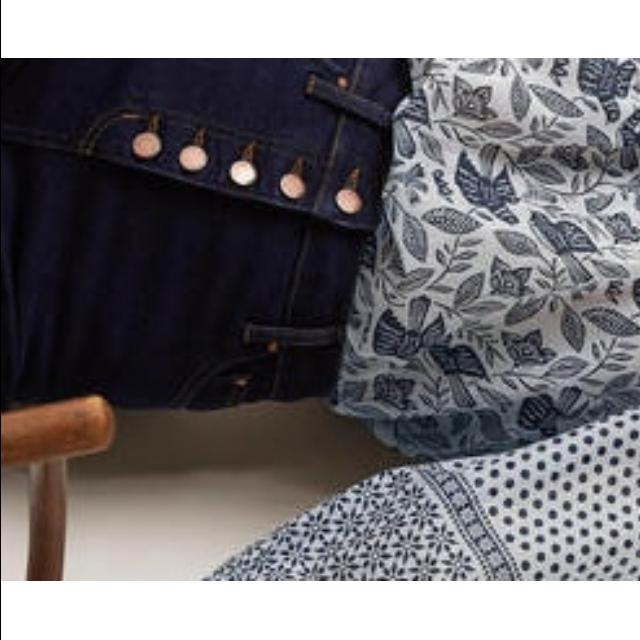cotton: (436, 59, 640, 499)
